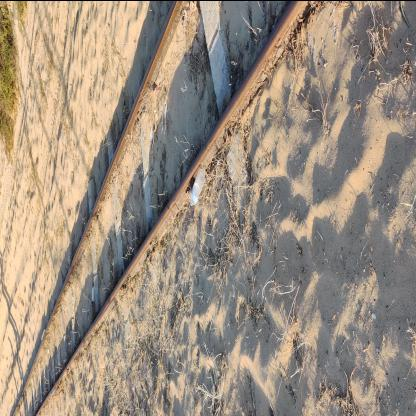plastik: (190, 168, 206, 206)
